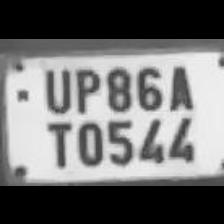0: (72, 114, 104, 166)
4: (162, 107, 198, 162), (135, 112, 165, 162)
5: (102, 114, 134, 164)
6: (132, 61, 164, 111)
8: (101, 62, 133, 113)
A: (164, 61, 196, 111)
P: (70, 62, 102, 113)
T: (39, 116, 73, 168)
U: (39, 63, 73, 113)
